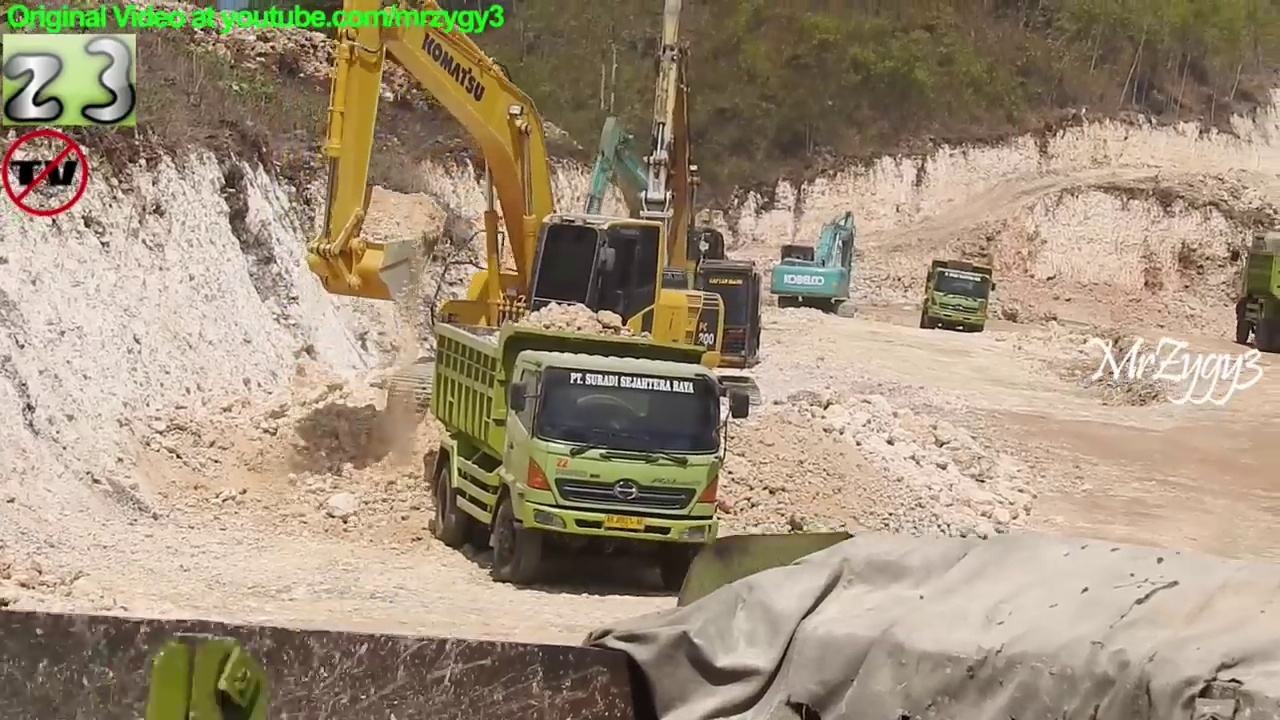excavator: (309, 2, 730, 433), (472, 2, 769, 426), (768, 206, 860, 314)
truck: (1, 528, 1280, 720), (426, 313, 753, 595), (919, 257, 999, 333)
